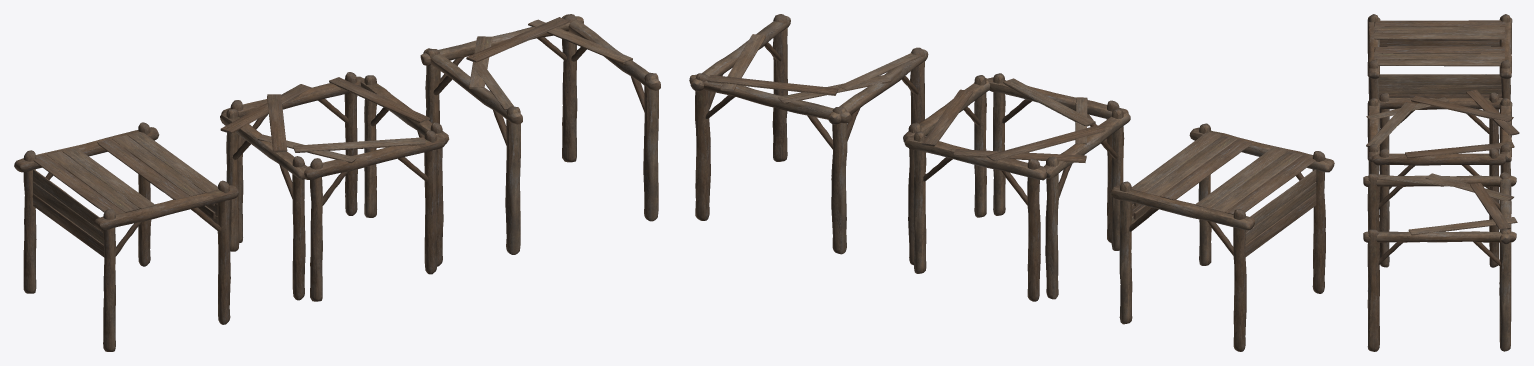
The model's file is Mining_Supports_B1.fbx.
3 renders of one model, left to right at view 1: azimuth 30°, elevation 25°; view 2: azimuth 150°, elevation 25°; view 3: azimuth 270°, elevation 25°, orthographic. The views are drawn at different scales.
Parts seen in each view (by area): view 1: Mining_Supports_B2, Mining_Supports_B3, Mining_Supports_B1, Mining_Supports_B2.001, Mining_Supports_B3.001, Mining_Supports_B1.001; view 2: Mining_Supports_B3, Mining_Supports_B2, Mining_Supports_B1, Mining_Supports_B2.001, Mining_Supports_B1.001, Mining_Supports_B3.001; view 3: Mining_Supports_B3, Mining_Supports_B1, Mining_Supports_B2, Mining_Supports_B1.001, Mining_Supports_B2.001, Mining_Supports_B3.001.
Part boxes in pixels (bbox=[...]): Mining_Supports_B2: bbox=[220, 72, 448, 301]; Mining_Supports_B3: bbox=[14, 122, 238, 351]; Mining_Supports_B1: bbox=[420, 14, 660, 254]; Mining_Supports_B2.001: bbox=[220, 72, 449, 301]; Mining_Supports_B3.001: bbox=[14, 122, 238, 350]; Mining_Supports_B1.001: bbox=[420, 14, 660, 254]; Mining_Supports_B3: bbox=[1110, 123, 1334, 351]; Mining_Supports_B2: bbox=[903, 73, 1130, 301]; Mining_Supports_B1: bbox=[689, 14, 928, 253]; Mining_Supports_B2.001: bbox=[903, 73, 1129, 301]; Mining_Supports_B1.001: bbox=[689, 14, 927, 254]; Mining_Supports_B3.001: bbox=[1111, 123, 1334, 351]; Mining_Supports_B3: bbox=[1367, 14, 1512, 99]; Mining_Supports_B1: bbox=[1363, 172, 1517, 351]; Mining_Supports_B2: bbox=[1366, 90, 1518, 267]; Mining_Supports_B1.001: bbox=[1363, 172, 1516, 351]; Mining_Supports_B2.001: bbox=[1367, 92, 1519, 267]; Mining_Supports_B3.001: bbox=[1367, 14, 1511, 100].
Bounding box in the file's own units: 2460 × 607 × 710.
